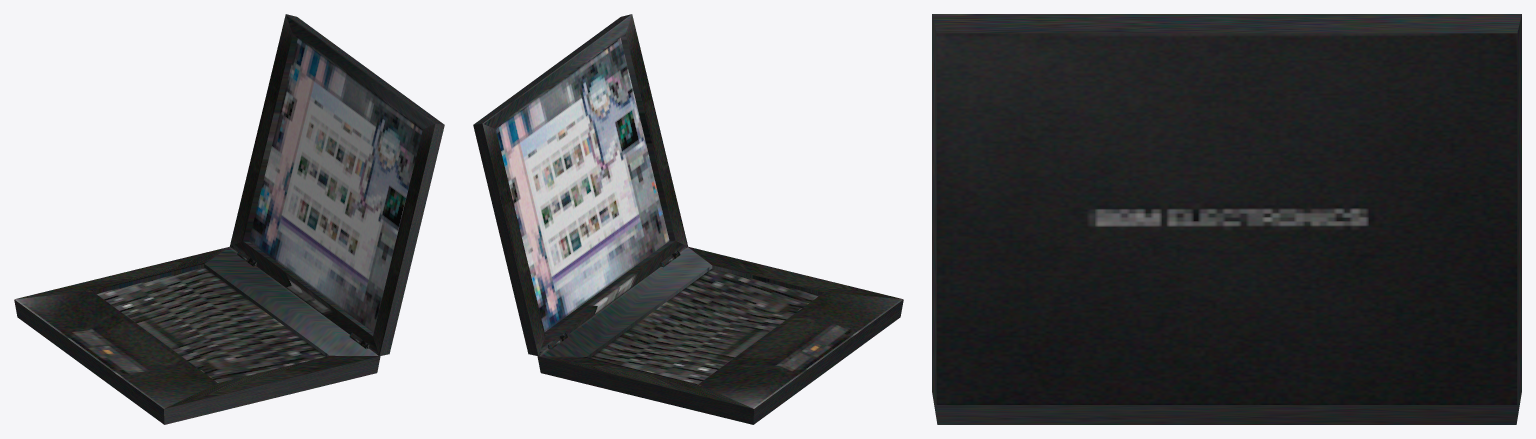
Rendered from notebookopen_01.fbx.
3 renders of one model, left to right at view 1: azimuth 30°, elevation 25°; view 2: azimuth 150°, elevation 25°; view 3: azimuth 270°, elevation 25°, orthographic. The views are drawn at different scales.
Parts seen in each view (by area): view 1: Cylinder.002; view 2: Cylinder.002; view 3: Cylinder.002.
Part boxes in pixels (bbox=[...]): Cylinder.002: bbox=[14, 14, 444, 424]; Cylinder.002: bbox=[473, 14, 903, 424]; Cylinder.002: bbox=[932, 14, 1521, 424].
Size of the model in its own units: 43.5 by 34.85 by 40.
2 materials, 2 textured.
